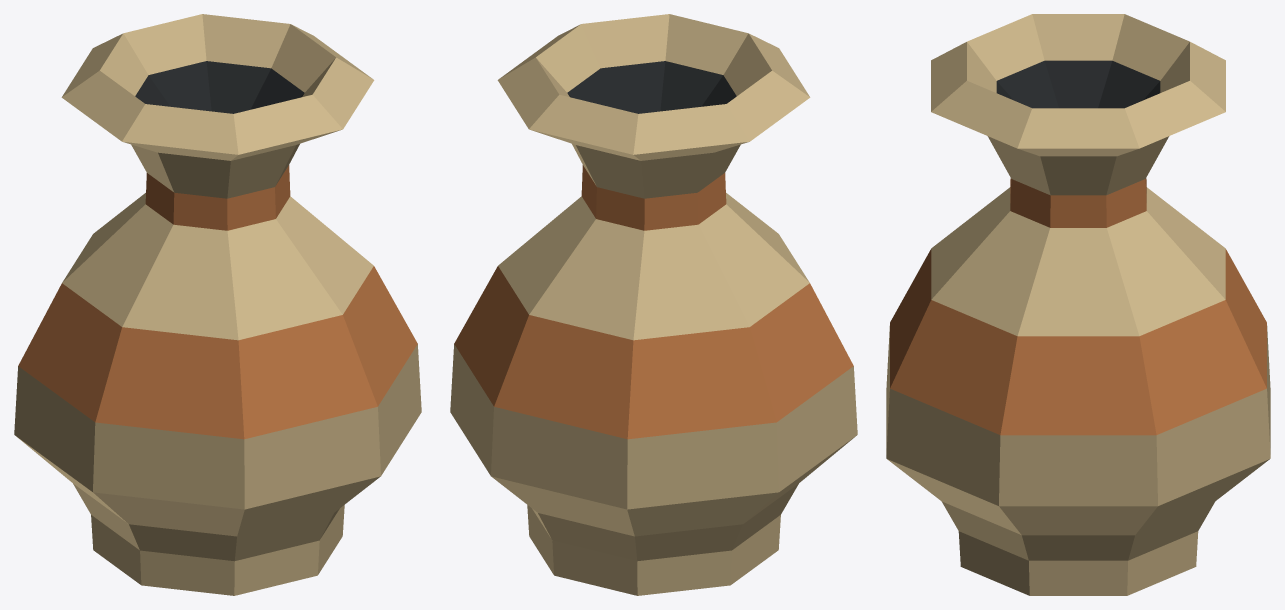
File: SM_Prop_Vase_05.glb
3 renders of one model, left to right at view 1: azimuth 30°, elevation 25°; view 2: azimuth 150°, elevation 25°; view 3: azimuth 270°, elevation 25°, orthographic.
Visible parts, largest first — view 1: SM_Prop_Vase_05; view 2: SM_Prop_Vase_05; view 3: SM_Prop_Vase_05.
Boxes of the visible parts, box(x1,y1,x2,y2) form: SM_Prop_Vase_05: box(14, 14, 421, 595); SM_Prop_Vase_05: box(450, 14, 857, 595); SM_Prop_Vase_05: box(886, 14, 1270, 595).
Size of the model in its own units: 0.547 by 0.7617 by 0.547.
1 material, 1 textured.
